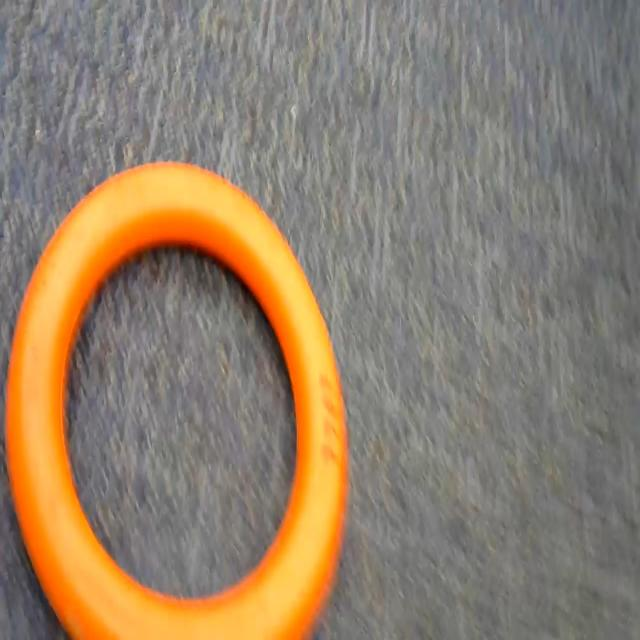note: (4, 156, 352, 640)
